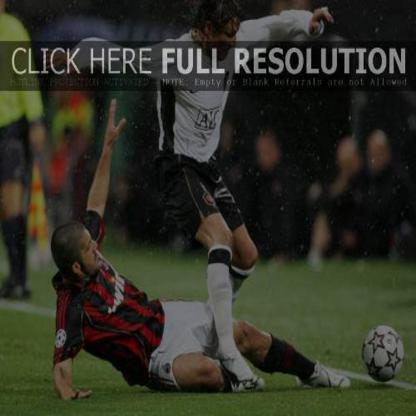face: (212, 17, 240, 62), (79, 227, 99, 273)
